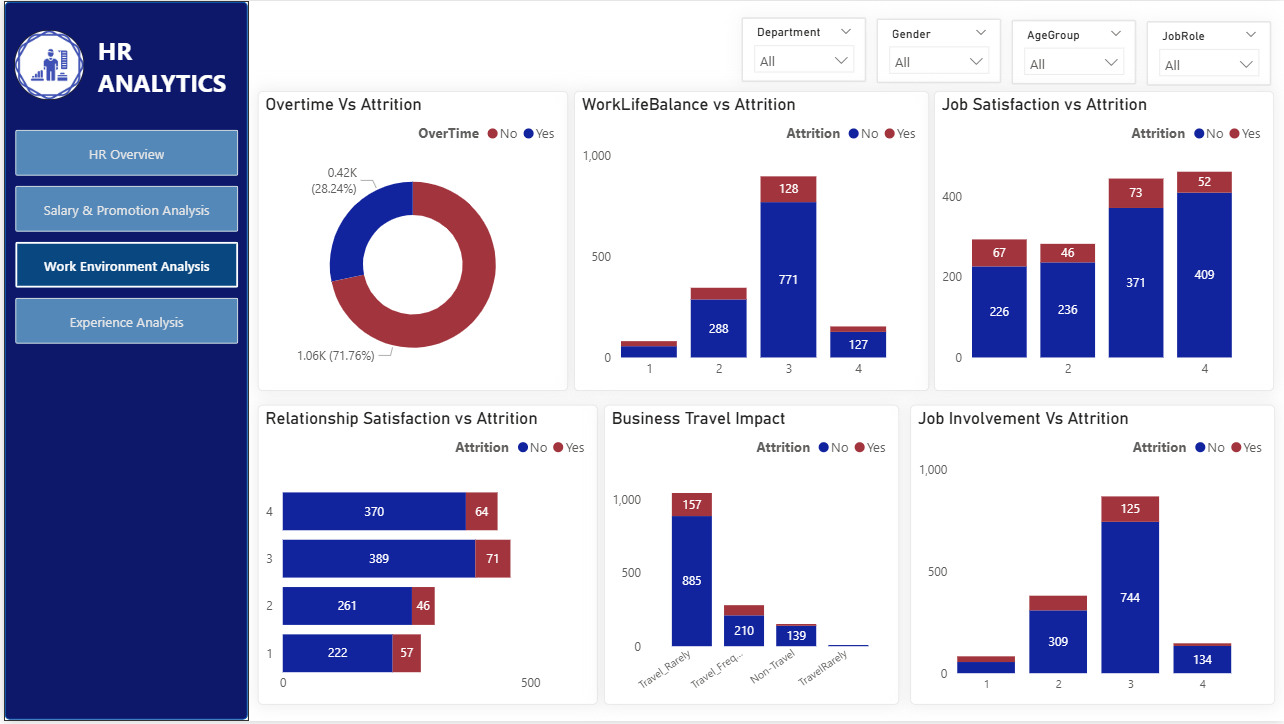

The page's visual inventory and layout, read from the dashboard file:
{"tool":"powerbi","page":{"name":"Work Environment Analysis","canvas":[1280,720],"ordinal":2},"visuals":[{"type":"slicer","fields":{"Values":["HR_Analytics.Department"]},"box":[737.5,15.7,125,65],"z":0},{"type":"slicer","fields":{"Values":["HR_Analytics.AgeGroup"]},"box":[1007.3,18.4,125,65],"z":1000},{"type":"slicer","fields":{"Values":["HR_Analytics.JobRole"]},"box":[1142.2,19.7,125,65],"z":2000},{"type":"slicer","fields":{"Values":["HR_Analytics.Gender"]},"box":[872.4,17.1,125,65],"z":3000},{"type":"donutChart","title":"Overtime Vs Attrition","fields":{"Category":["HR_Analytics.OverTime"],"Y":["CountNonNull(HR_Analytics.Attrition)"]},"box":[253.8,90,310,300],"z":4000},{"type":"columnChart","title":"WorkLifeBalance vs Attrition","fields":{"Category":["HR_Analytics.WorkLifeBalance"],"Y":["CountNonNull(HR_Analytics.EmpID)"],"Series":["HR_Analytics.Attrition"]},"box":[570,90,355,300],"z":5000},{"type":"columnChart","title":"Job Satisfaction vs Attrition","fields":{"Category":["HR_Analytics.JobSatisfaction"],"Series":["HR_Analytics.Attrition"],"Y":["CountNonNull(HR_Analytics.EmpID)"]},"box":[930,90,340,300],"z":6000},{"type":"barChart","title":"Relationship Satisfaction vs Attrition","fields":{"Y":["CountNonNull(HR_Analytics.EmpID)"],"Series":["HR_Analytics.Attrition"],"Category":["HR_Analytics.RelationshipSatisfaction"]},"box":[253.8,403.8,340,300],"z":7000},{"type":"columnChart","title":"Business Travel Impact","fields":{"Series":["HR_Analytics.Attrition"],"Y":["CountNonNull(HR_Analytics.EmpID)"],"Category":["HR_Analytics.BusinessTravel"]},"box":[600,403.8,295,300],"z":8000},{"type":"columnChart","title":"Job Involvement Vs Attrition","fields":{"Series":["HR_Analytics.Attrition"],"Y":["CountNonNull(HR_Analytics.EmpID)"],"Category":["HR_Analytics.JobInvolvement"]},"box":[906.2,403.8,365,300],"z":9000},{"type":"shape","box":[0,0,245,720],"z":10000},{"type":"textbox","box":[89,28.7,150,76.2],"z":11000},{"type":"pageNavigator","box":[11.2,128.8,223.8,216.2],"z":12000},{"type":"image","box":[10.2,28.7,70,70],"z":13000}]}

Visuals, with their boxes in screenshot pixels (x1, y1, x2, y2), scaled from the page's 1280x720 canvas onto the 1284x724 screenshot:
slicer - HR_Analytics.Department: pyautogui.locateOnScreen(740, 16, 865, 81)
slicer - HR_Analytics.AgeGroup: pyautogui.locateOnScreen(1010, 19, 1136, 84)
slicer - HR_Analytics.JobRole: pyautogui.locateOnScreen(1146, 20, 1271, 85)
slicer - HR_Analytics.Gender: pyautogui.locateOnScreen(875, 17, 1001, 83)
"Overtime Vs Attrition" donutChart: pyautogui.locateOnScreen(255, 90, 566, 392)
"WorkLifeBalance vs Attrition" columnChart: pyautogui.locateOnScreen(572, 90, 928, 392)
"Job Satisfaction vs Attrition" columnChart: pyautogui.locateOnScreen(933, 90, 1274, 392)
"Relationship Satisfaction vs Attrition" barChart: pyautogui.locateOnScreen(255, 406, 596, 708)
"Business Travel Impact" columnChart: pyautogui.locateOnScreen(602, 406, 898, 708)
"Job Involvement Vs Attrition" columnChart: pyautogui.locateOnScreen(909, 406, 1275, 708)
shape: pyautogui.locateOnScreen(0, 0, 246, 723)
textbox: pyautogui.locateOnScreen(89, 29, 240, 105)
pageNavigator: pyautogui.locateOnScreen(11, 130, 236, 347)
image: pyautogui.locateOnScreen(10, 29, 80, 99)
